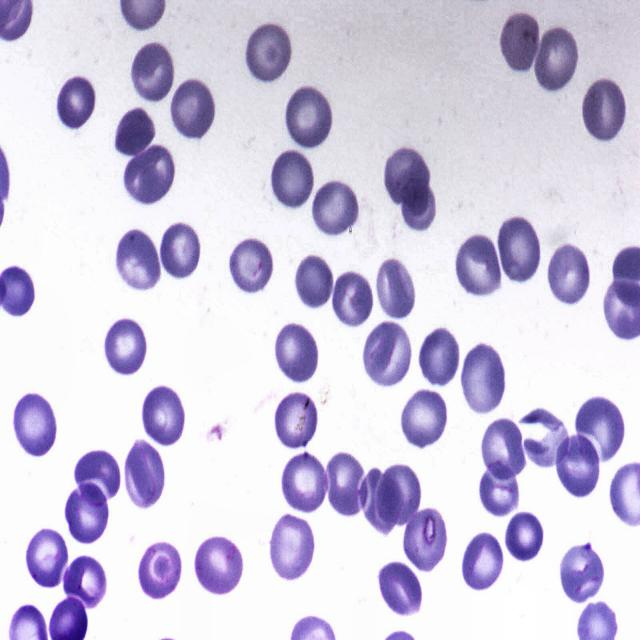red blood cell: (122, 140, 176, 209), (399, 503, 452, 572), (574, 394, 628, 461), (284, 81, 334, 153), (372, 460, 423, 530), (192, 533, 246, 599), (12, 388, 60, 462), (361, 320, 414, 387), (455, 229, 505, 300), (268, 511, 316, 583), (462, 339, 506, 416), (579, 74, 627, 144), (480, 414, 528, 484), (554, 431, 602, 501), (280, 449, 329, 517), (533, 22, 578, 96), (115, 226, 163, 295), (71, 444, 123, 507), (243, 21, 294, 85), (498, 4, 542, 78), (131, 38, 177, 108), (357, 468, 403, 538), (169, 74, 217, 141), (497, 213, 541, 286), (311, 177, 361, 241), (274, 318, 320, 387), (274, 388, 322, 454), (401, 386, 449, 452), (558, 542, 607, 606), (62, 480, 111, 544), (546, 240, 592, 308), (324, 448, 368, 519), (140, 383, 188, 448), (137, 538, 185, 602), (520, 405, 570, 466), (270, 148, 316, 213), (24, 526, 70, 590), (374, 252, 416, 321), (383, 146, 431, 206), (461, 530, 505, 594), (126, 438, 168, 505), (103, 317, 149, 377), (419, 324, 461, 389), (229, 236, 275, 295), (478, 460, 521, 520), (294, 251, 336, 312), (56, 72, 98, 133), (378, 562, 424, 617), (114, 104, 160, 159), (328, 272, 374, 326), (160, 220, 202, 279), (64, 554, 109, 608), (400, 180, 438, 234), (505, 511, 545, 562)
